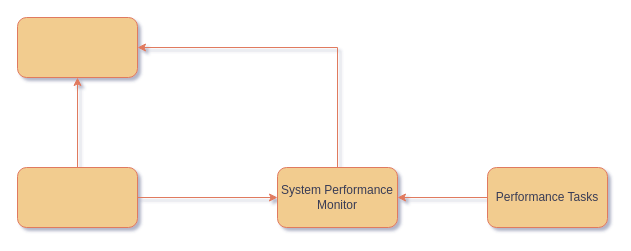
The diagram is 631 pixels wide and 251 high, and some of its shapes have lost their labels. The centre of each missing label's shape, as x and y in pixels:
Configure UI: point 77,47
Constrained Device App: point 77,197
